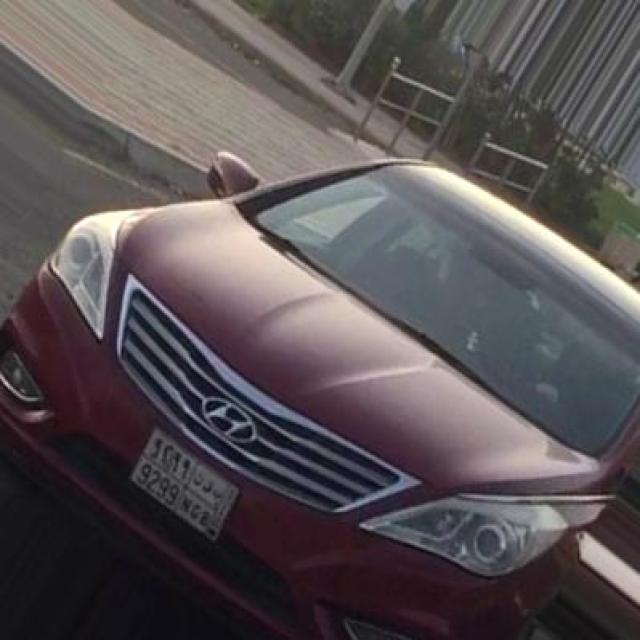Car-plate: (116, 408, 254, 561)
